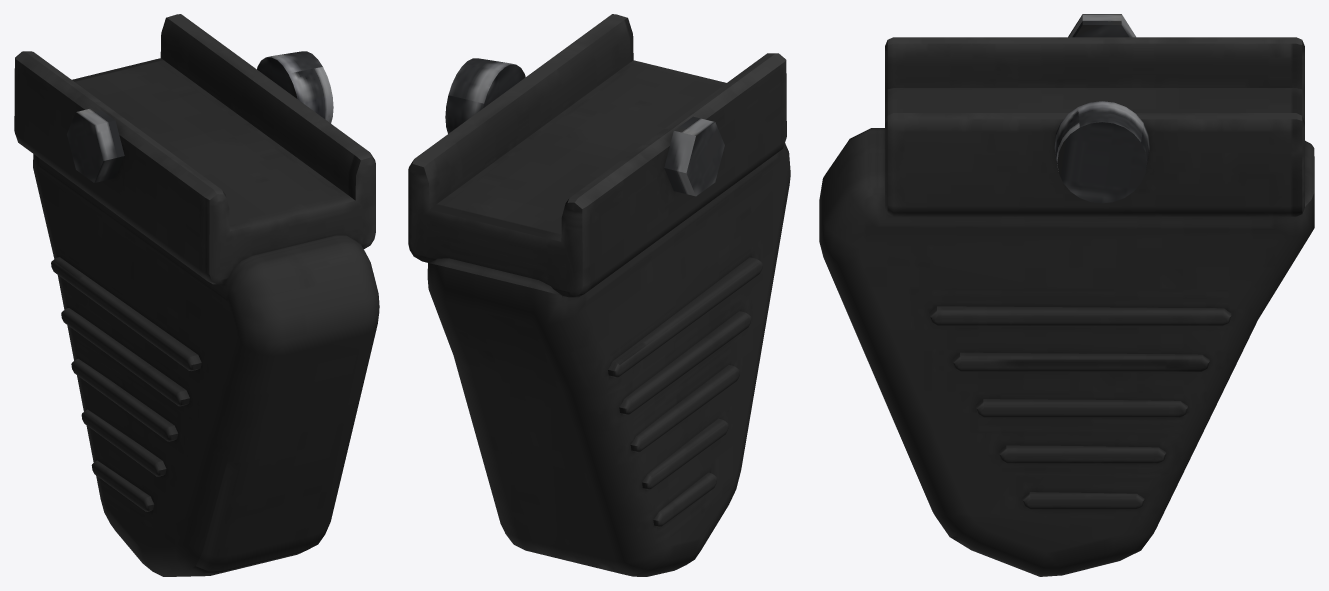
Rendered from grip_half.glb.
3 views of the same model, side by side, from view 1: azimuth 30°, elevation 25°; view 2: azimuth 150°, elevation 25°; view 3: azimuth 270°, elevation 25° (orthographic). The views are drawn at different scales.
Parts seen in each view (by area): view 1: body; view 2: body; view 3: body.
Part boxes in pixels (bbox=[...]): body: bbox=[14, 14, 379, 576]; body: bbox=[408, 14, 790, 576]; body: bbox=[819, 14, 1314, 576].
Size of the model in its own units: 0.0386 by 0.0752 by 0.0684.
1 material, 1 textured.
